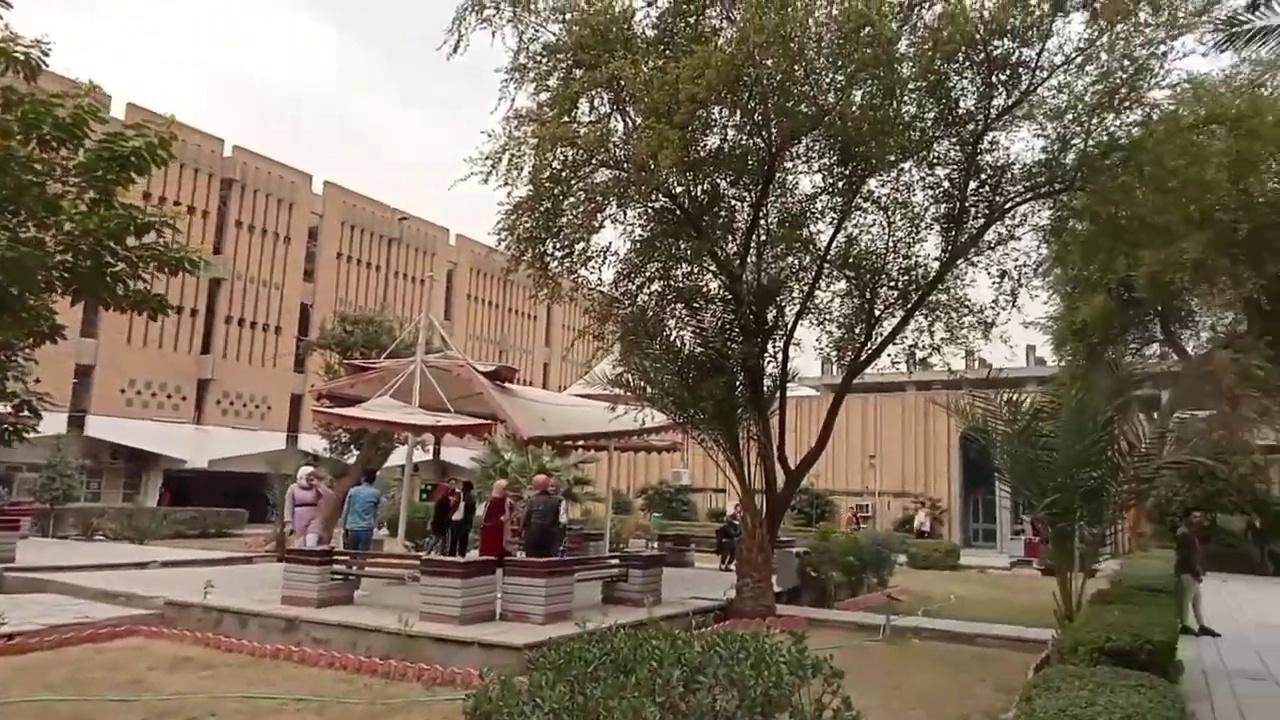person: (1173, 506, 1221, 637), (340, 467, 381, 570), (282, 464, 328, 547), (519, 473, 561, 557), (422, 477, 459, 556), (478, 478, 514, 558), (447, 479, 476, 557), (716, 513, 740, 571), (912, 501, 931, 538), (842, 504, 860, 530), (156, 481, 171, 506)
tree: (433, 0, 1257, 621), (1038, 67, 1278, 553), (0, 0, 213, 449), (928, 298, 1166, 624), (460, 616, 862, 718), (300, 296, 422, 476), (467, 429, 603, 554), (300, 296, 417, 381), (635, 478, 694, 522)
